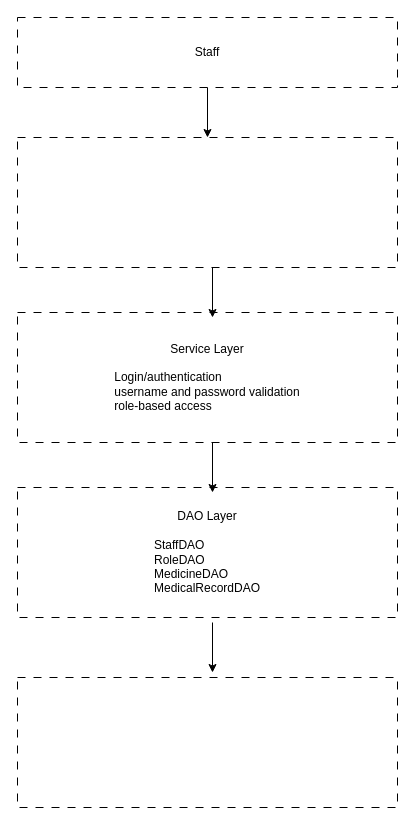
Image size: 415x825. Some labels were removed from this diagram. Here are the shapes that lost their labels. From the top down, the box of each, then its label:
(16, 136, 398, 268): Desktop Application/UI Login Dashboard Medicine Inventory Medical Records
(16, 676, 398, 808): Database Staff Role Medicine Medical record
